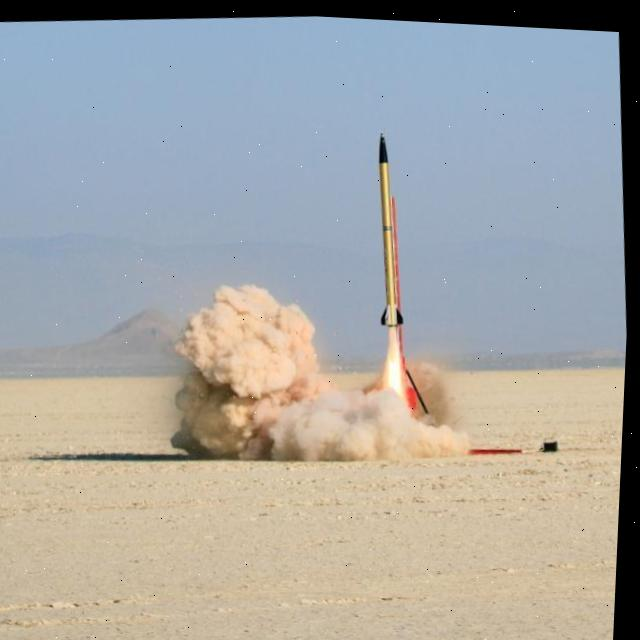missile: (367, 123, 415, 327)
